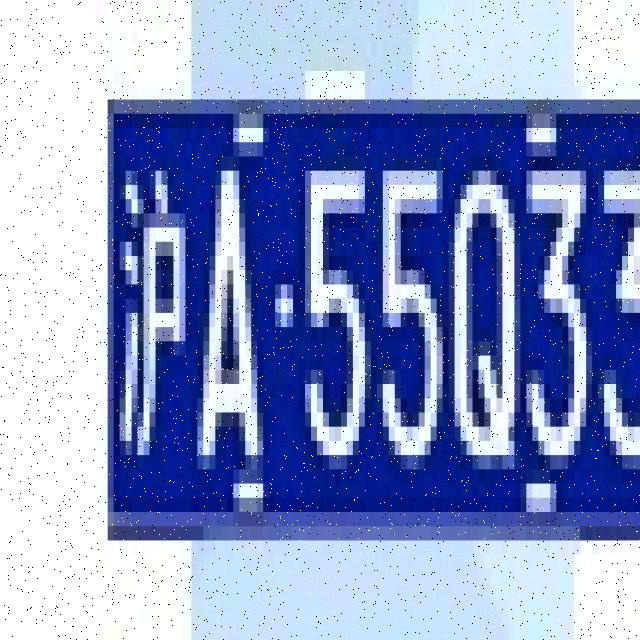licenseplate: (103, 90, 640, 544)
